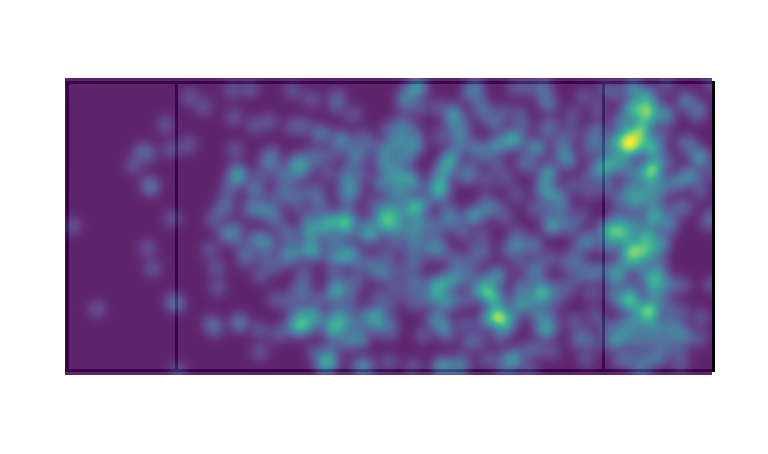

What the dashboard file says about the page in this screenshot:
{"tool":"powerbi","page":{"name":"DFThrower Compare","canvas":[1280,720],"ordinal":7},"visuals":[{"type":"BoxandWhiskerByMAQ1823AD39DT234AB532063E128AX","fields":{"categoryGroup":["throwInfoDF.type"],"category":["throwInfoDF.ID"],"measure":["Sum(throwInfoDF.dist)"],"xCategoryParent":["TBvsPHX (6).rostersAway.player.last_name"]},"box":[10.5,0,1269.5,720.3],"z":0}]}

Visuals, with their boxes on the page's 1280x720 design canvas (x1, y1, x2, y2). These are canvas units, not pixel positions in the 768x454 screenshot, which may show the page scaled, cropped or inside an application window:
BoxandWhiskerByMAQ1823AD39DT234AB532063E128AX - throwInfoDF.type x throwInfoDF.ID: BBox(10, 0, 1280, 720)
